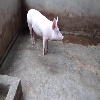heo: (25, 6, 66, 57)
